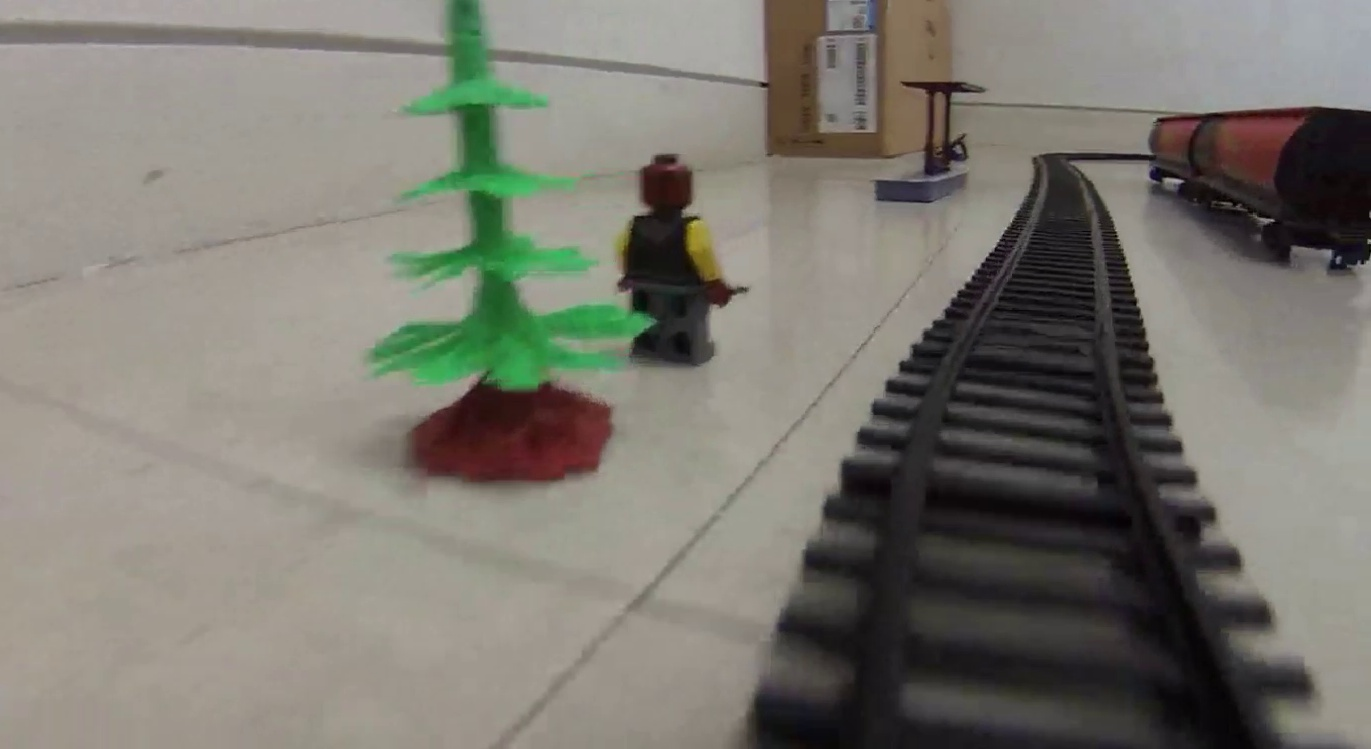people: (620, 155, 731, 367)
tree: (361, 1, 624, 483)
